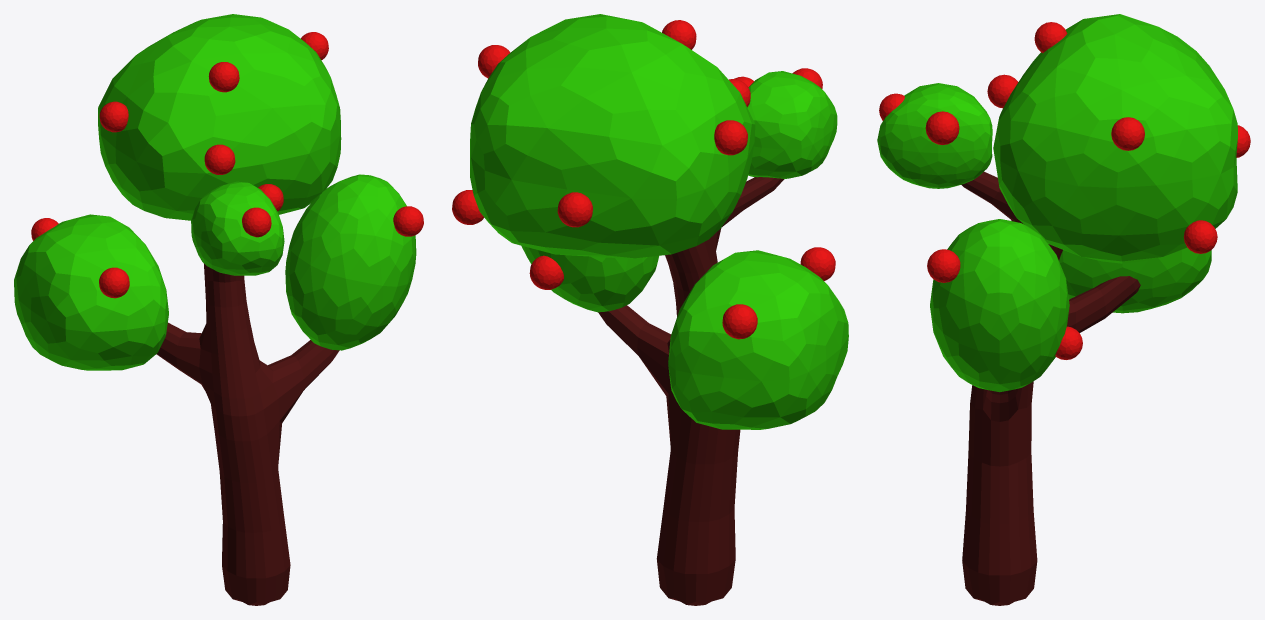
Rendered from appleTree.fbx.
The picture shows the model from 3 angles, left to right: view 1: azimuth 30°, elevation 25°; view 2: azimuth 150°, elevation 25°; view 3: azimuth 270°, elevation 25°; orthographic projection. The views are drawn at different scales.
Parts seen in each view (by area): view 1: Icosphere, Cylinder, Icosphere.002, Icosphere.001, Icosphere.016, Icosphere.005, Icosphere.013, Icosphere.010, Icosphere.004, Icosphere.015, Icosphere.012; view 2: Icosphere, Icosphere.002, Cylinder, Icosphere.016, Icosphere.001, Icosphere.008, Icosphere.009, Icosphere.015, Icosphere.014, Icosphere.010, Icosphere.007, Icosphere.004 (+1 smaller); view 3: Icosphere, Icosphere.001, Cylinder, Icosphere.016, Icosphere.002, Icosphere.006, Icosphere.011, Icosphere.007, Icosphere.013, Icosphere.005, Icosphere.004, Icosphere.014.
Part boxes in pixels (box(x1,y1,x2,y2)): Icosphere: box(98, 14, 341, 220); Cylinder: box(156, 263, 339, 605); Icosphere.002: box(14, 214, 168, 370); Icosphere.001: box(285, 174, 416, 350); Icosphere.016: box(191, 181, 284, 275); Icosphere.005: box(204, 144, 235, 174); Icosphere.013: box(393, 206, 423, 236); Icosphere.010: box(99, 267, 129, 298); Icosphere.004: box(208, 62, 239, 92); Icosphere.015: box(99, 101, 128, 132); Icosphere.012: box(242, 207, 271, 237); Icosphere: box(470, 14, 755, 258); Icosphere.002: box(668, 250, 848, 429); Cylinder: box(598, 177, 784, 605); Icosphere.016: box(747, 71, 837, 178); Icosphere.001: box(521, 245, 658, 312); Icosphere.008: box(557, 192, 592, 227); Icosphere.009: box(722, 304, 757, 339); Icosphere.015: box(714, 120, 747, 155); Icosphere.014: box(529, 255, 563, 289); Icosphere.010: box(800, 247, 835, 280); Icosphere.007: box(452, 190, 484, 224); Icosphere.004: box(662, 20, 696, 49); Icosphere: box(993, 14, 1237, 263); Icosphere.001: box(930, 219, 1069, 392); Cylinder: box(961, 171, 1140, 605); Icosphere.016: box(877, 83, 992, 188); Icosphere.002: box(1059, 247, 1211, 313); Icosphere.006: box(1111, 117, 1144, 150); Icosphere.011: box(925, 111, 959, 145); Icosphere.007: box(1183, 220, 1217, 253); Icosphere.013: box(927, 249, 960, 282); Icosphere.005: box(987, 74, 1018, 108); Icosphere.004: box(1034, 22, 1067, 52); Icosphere.014: box(1055, 326, 1082, 359).
Size of the model in its own units: 539 by 854 by 494.
